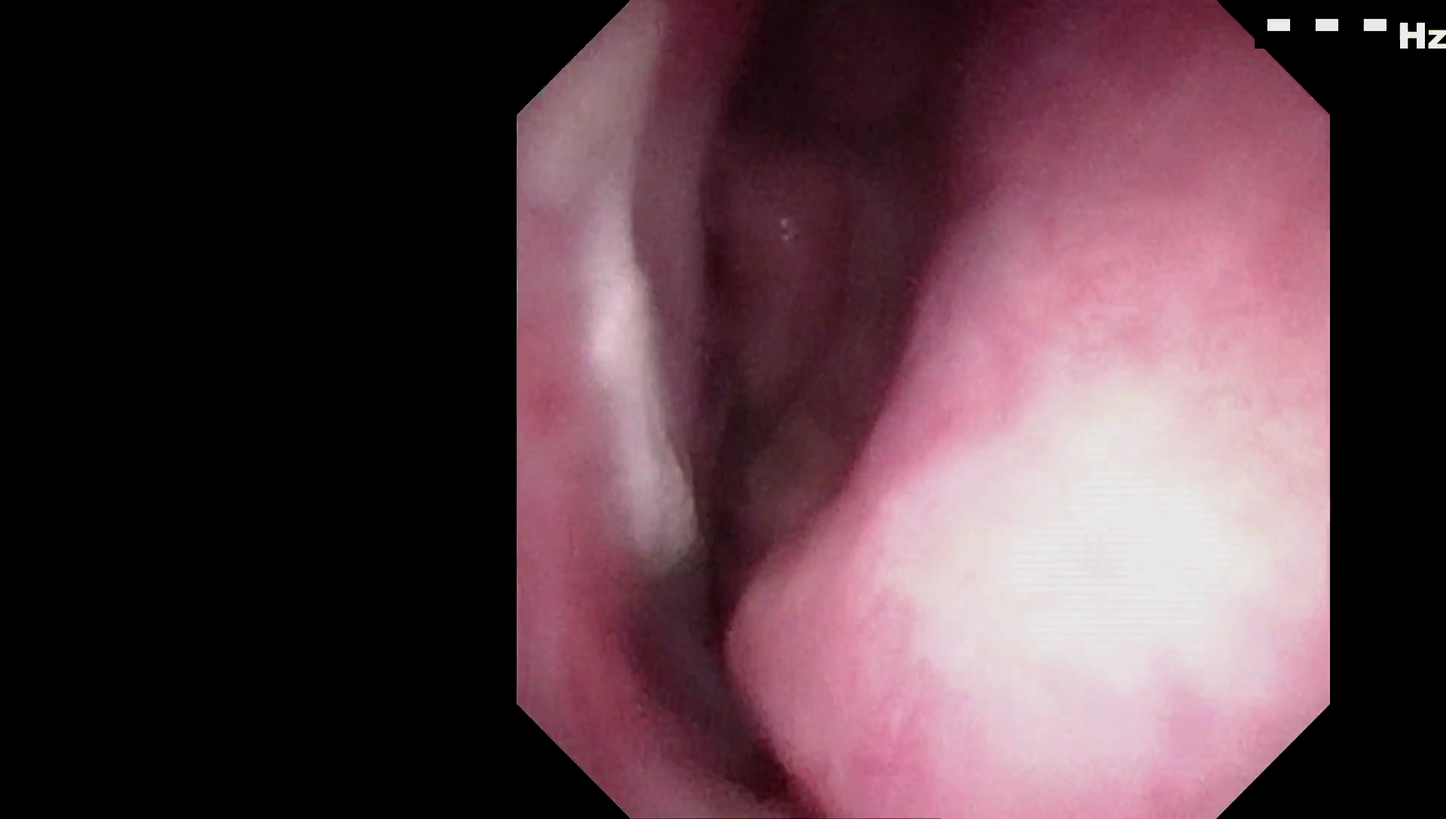close_wall: (828, 306, 1287, 739)
next: (652, 349, 782, 788), (679, 1, 848, 162)
